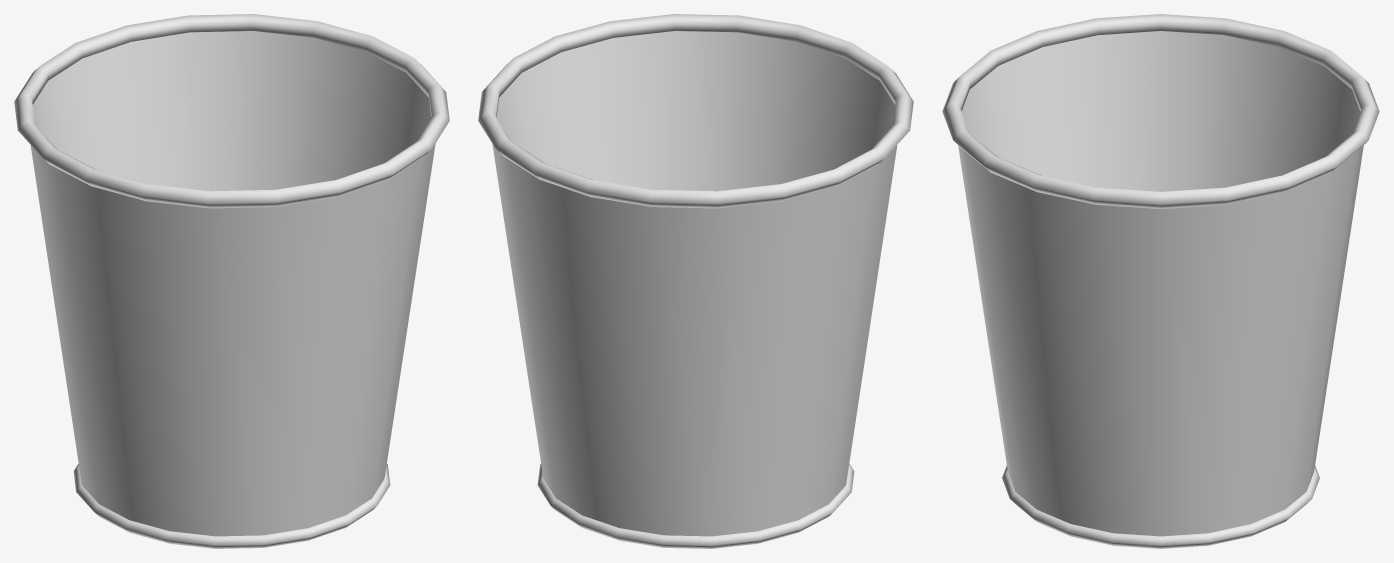
The model's file is TrashCan.fbx.
The picture shows the model from 3 angles, left to right: view 1: azimuth 30°, elevation 25°; view 2: azimuth 150°, elevation 25°; view 3: azimuth 270°, elevation 25°; orthographic projection.
Visible parts, largest first — view 1: TrashCan; view 2: TrashCan; view 3: TrashCan.
Part boxes in pixels (x1,y1,x2,y2): TrashCan: (14, 14, 449, 548); TrashCan: (478, 14, 913, 548); TrashCan: (942, 14, 1379, 548).
Size of the model in its own units: 0.4184 by 0.4026 by 0.4184.
